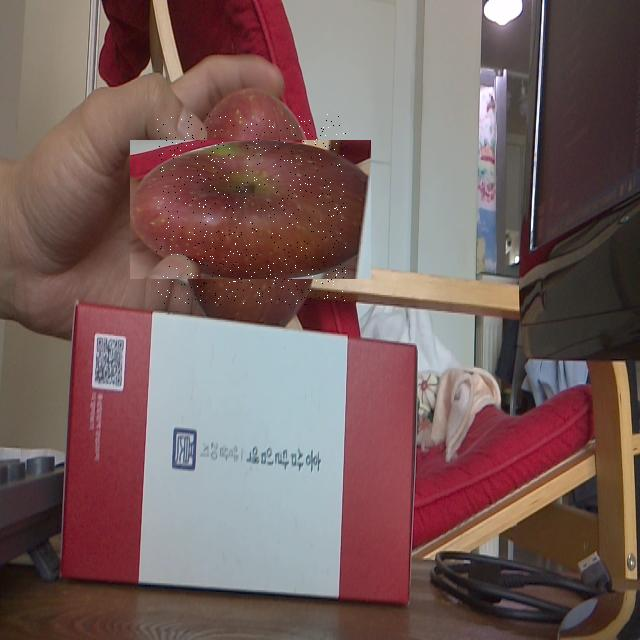apple: (156, 114, 346, 305)
